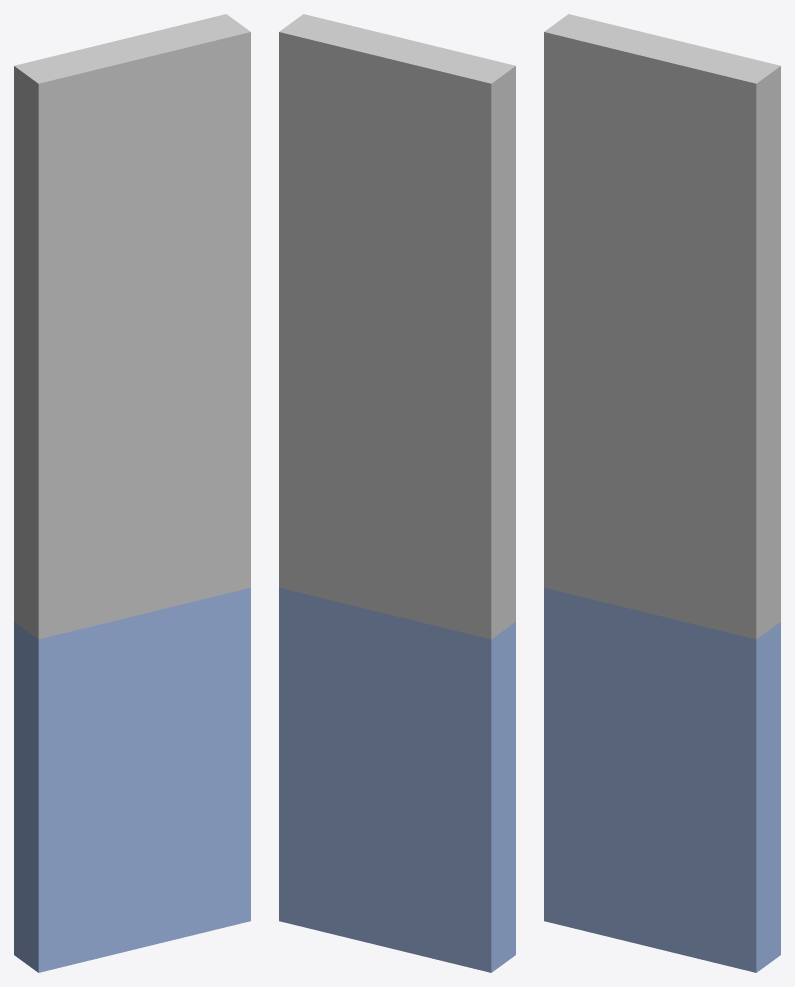
The model's file is Wall_Narrow.fbx.
The picture shows the model from 3 angles, left to right: view 1: azimuth 30°, elevation 25°; view 2: azimuth 150°, elevation 25°; view 3: azimuth 330°, elevation 25°; orthographic projection.
Visible parts, largest first — view 1: Wall_Narrow; view 2: Wall_Narrow; view 3: Wall_Narrow.
Part boxes in pixels (left/top/right/bottom): Wall_Narrow: left=14, top=14, right=250, bottom=972; Wall_Narrow: left=279, top=14, right=515, bottom=972; Wall_Narrow: left=544, top=14, right=780, bottom=972.
Size of the model in its own units: 1 by 4 by 0.2.
